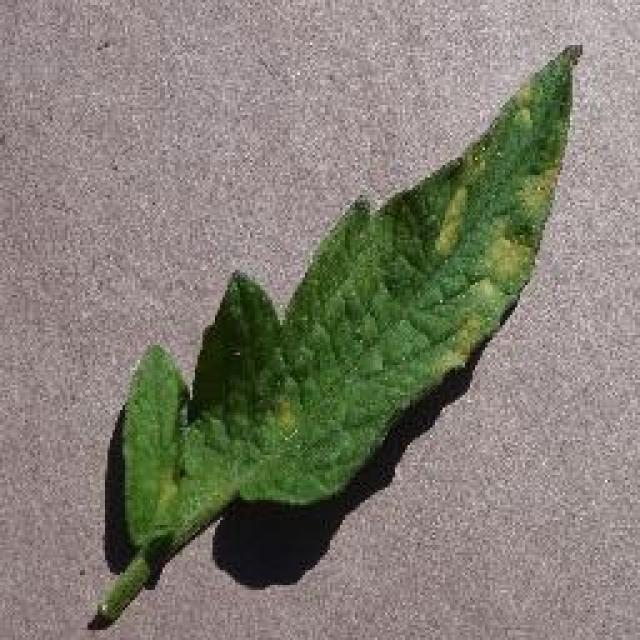Tomato___Leaf_Mold: (95, 45, 580, 622)
